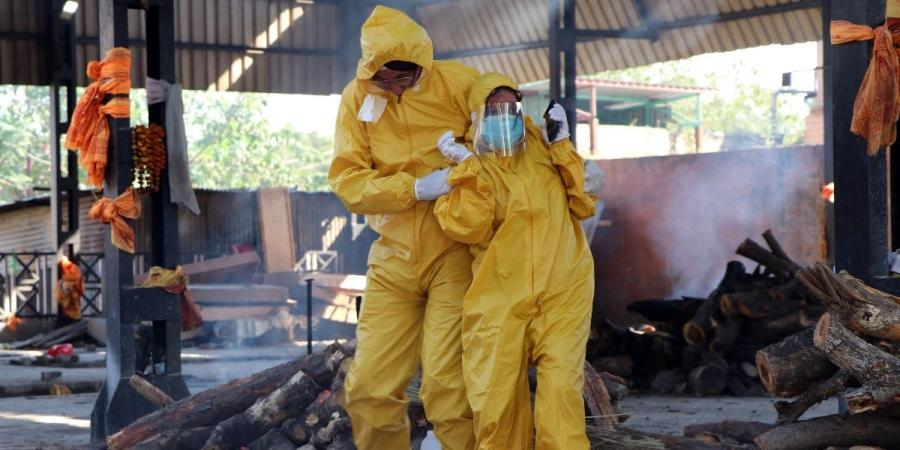Gloves On: (541, 100, 570, 143), (415, 167, 452, 200), (438, 132, 473, 163), (584, 160, 605, 198)
Suit On: (329, 65, 476, 448), (436, 118, 594, 448)
